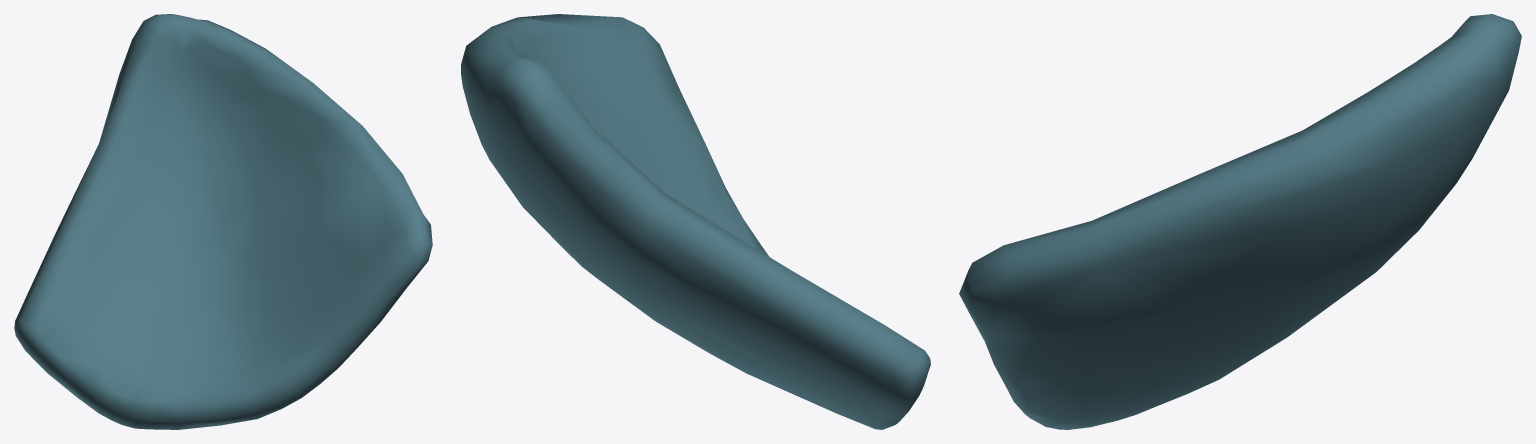
Rendered from Abductor_digiti_minimi_foot_5th_proximal_phalanx_left.glb.
3 renders of one model, left to right at view 1: azimuth 30°, elevation 25°; view 2: azimuth 150°, elevation 25°; view 3: azimuth 270°, elevation 25°, orthographic. The views are drawn at different scales.
Visible parts, largest first — view 1: Abductor_digiti_minimi_of_foot_on_5th_proximal_phalanx.l_Gen; view 2: Abductor_digiti_minimi_of_foot_on_5th_proximal_phalanx.l_Gen; view 3: Abductor_digiti_minimi_of_foot_on_5th_proximal_phalanx.l_Gen.
Boxes of the visible parts, box(x1,y1,x2,y2) form: Abductor_digiti_minimi_of_foot_on_5th_proximal_phalanx.l_Gen: box(14, 14, 432, 429); Abductor_digiti_minimi_of_foot_on_5th_proximal_phalanx.l_Gen: box(461, 14, 930, 429); Abductor_digiti_minimi_of_foot_on_5th_proximal_phalanx.l_Gen: box(959, 14, 1521, 429).
Size of the model in its own units: 0.00439 by 0.00389 by 0.00432.
